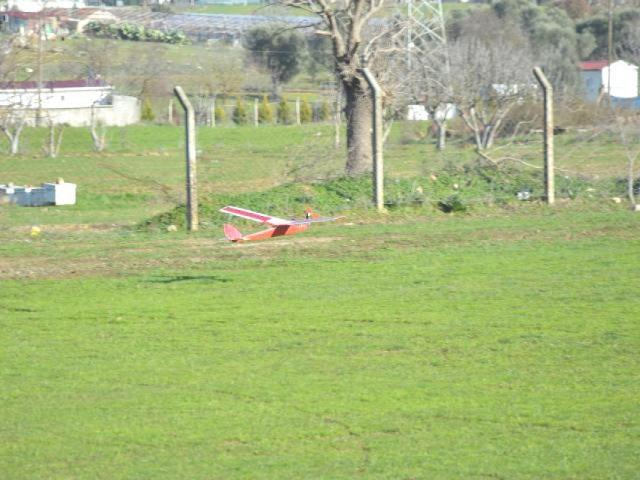iha: (216, 198, 351, 244)
